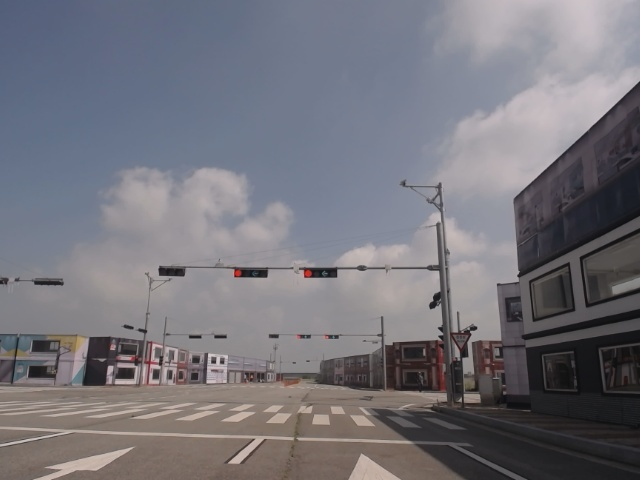left_green_4: (234, 268, 269, 278), (304, 269, 337, 278)
